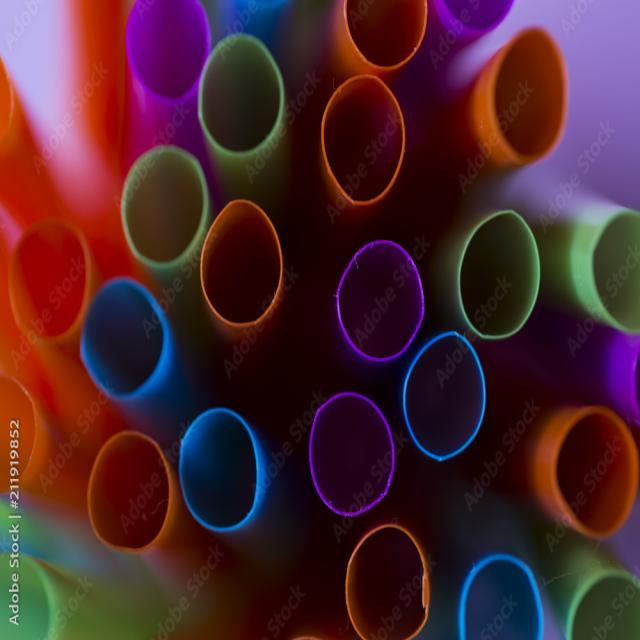plastic: (519, 372, 640, 564)
